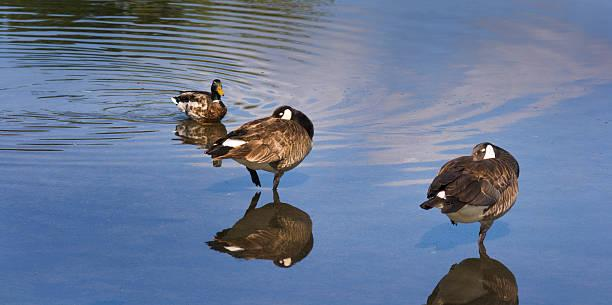Canadian-Goose: (214, 105, 316, 192)
